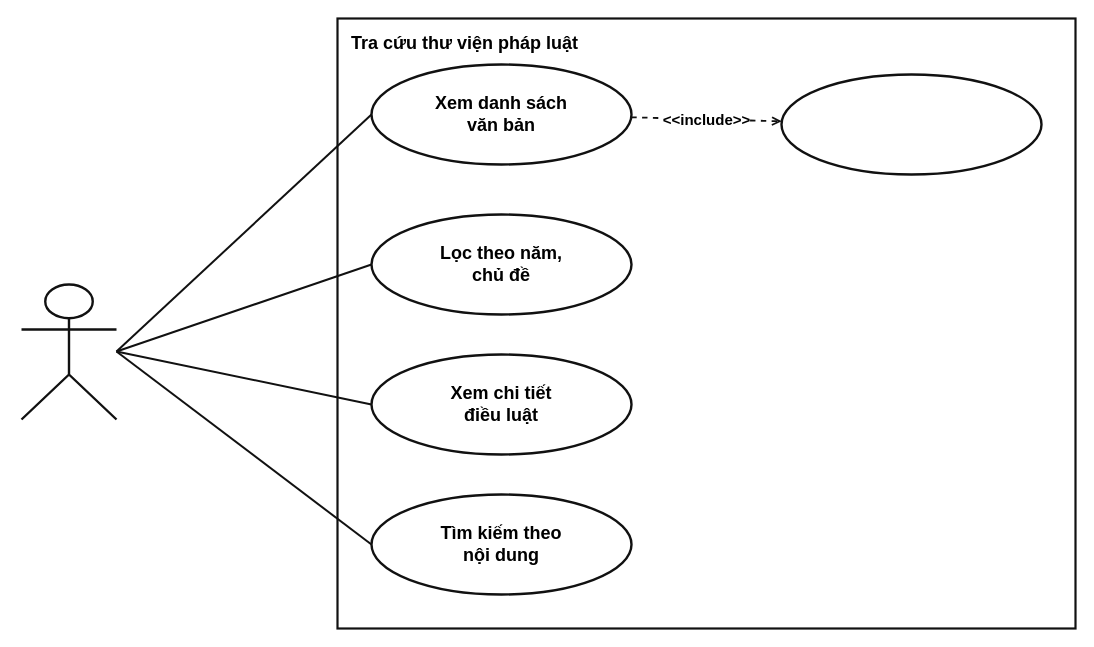
Image size: 1094x647. Some labels were removed from this diagram. The shapes that lost their labels are listed below. From the top down, each one's box as (x1, y1, x2, y2) in pixels, then its label:
(780, 73, 1042, 175): Xem topic, năm, keyword
(20, 283, 117, 420): Người dùng
